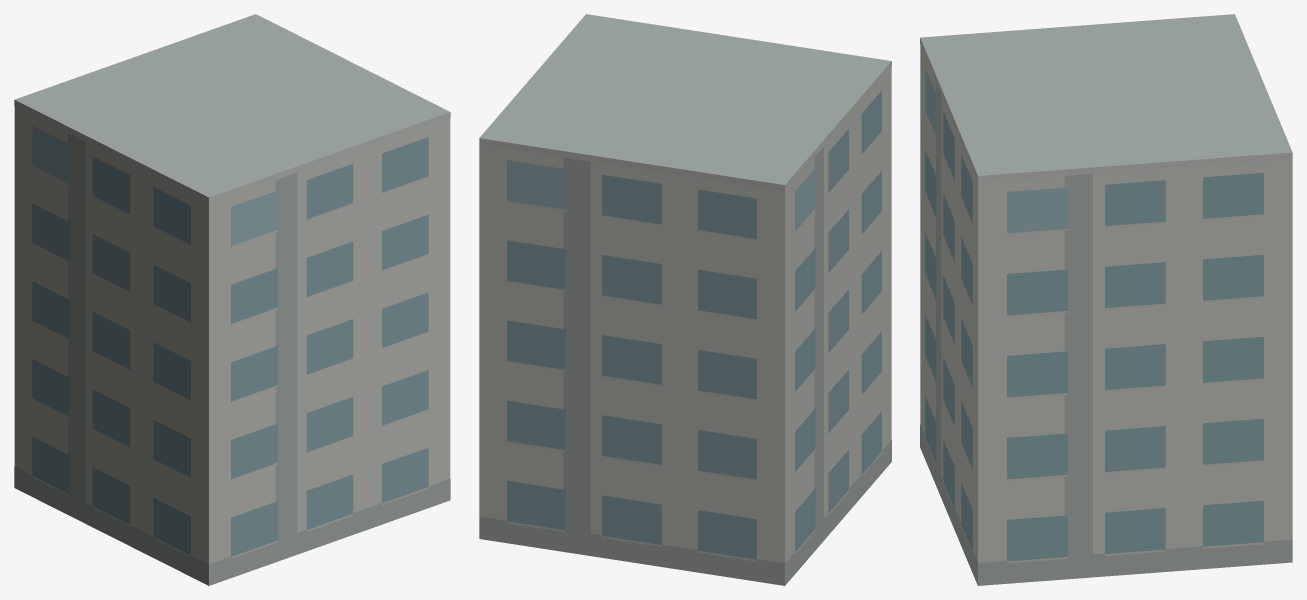
Rendered from residential-7a553c92-a369-4e54-9f5e-22708c76ef46.glb.
3 renders of one model, left to right at view 1: azimuth 30°, elevation 25°; view 2: azimuth 150°, elevation 25°; view 3: azimuth 270°, elevation 25°, orthographic. The views are drawn at different scales.
Visible parts, largest first — view 1: residential-7a553c92-a369-4e54-9f5e-22708c76ef46.tmp; view 2: residential-7a553c92-a369-4e54-9f5e-22708c76ef46.tmp; view 3: residential-7a553c92-a369-4e54-9f5e-22708c76ef46.tmp.
Part boxes in pixels (x1=…): residential-7a553c92-a369-4e54-9f5e-22708c76ef46.tmp: x1=14, y1=14, x2=450, y2=585; residential-7a553c92-a369-4e54-9f5e-22708c76ef46.tmp: x1=479, y1=14, x2=891, y2=585; residential-7a553c92-a369-4e54-9f5e-22708c76ef46.tmp: x1=920, y1=14, x2=1292, y2=585.
Bounding box in the file's own units: 12.93 × 15.25 × 12.57.
